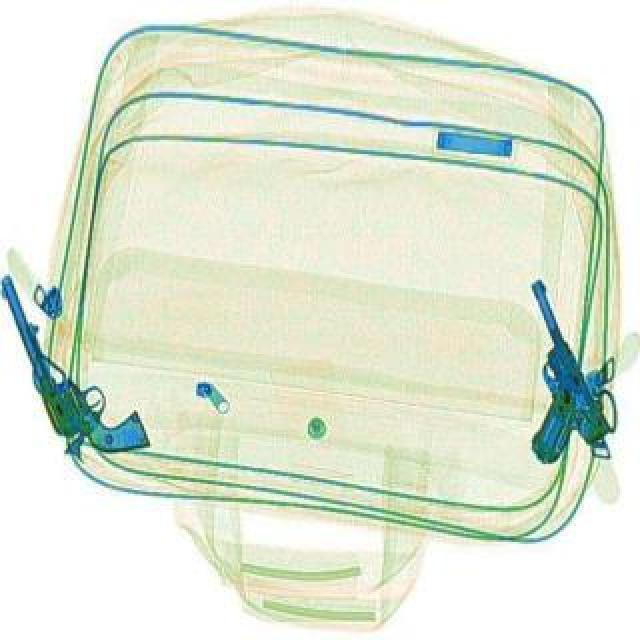gun: (0, 252, 148, 466), (466, 274, 616, 466)
